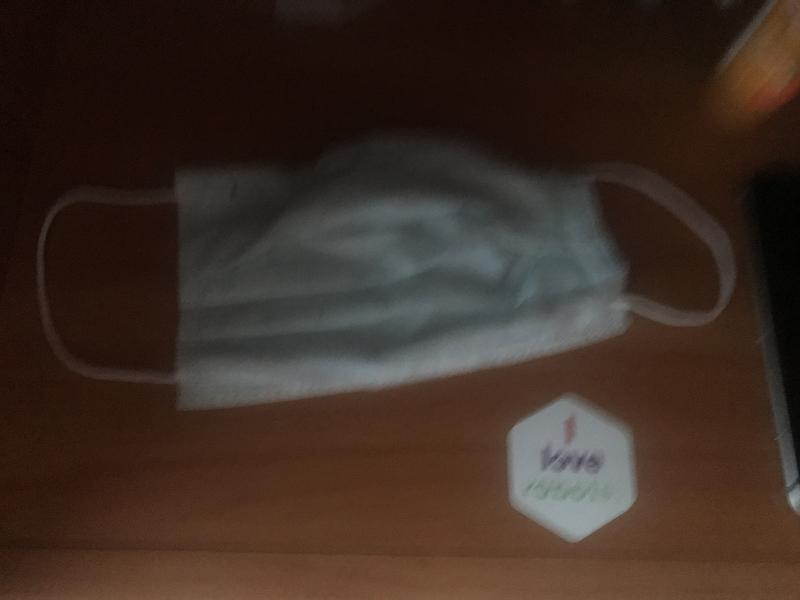medical_mask: (41, 138, 731, 406)
